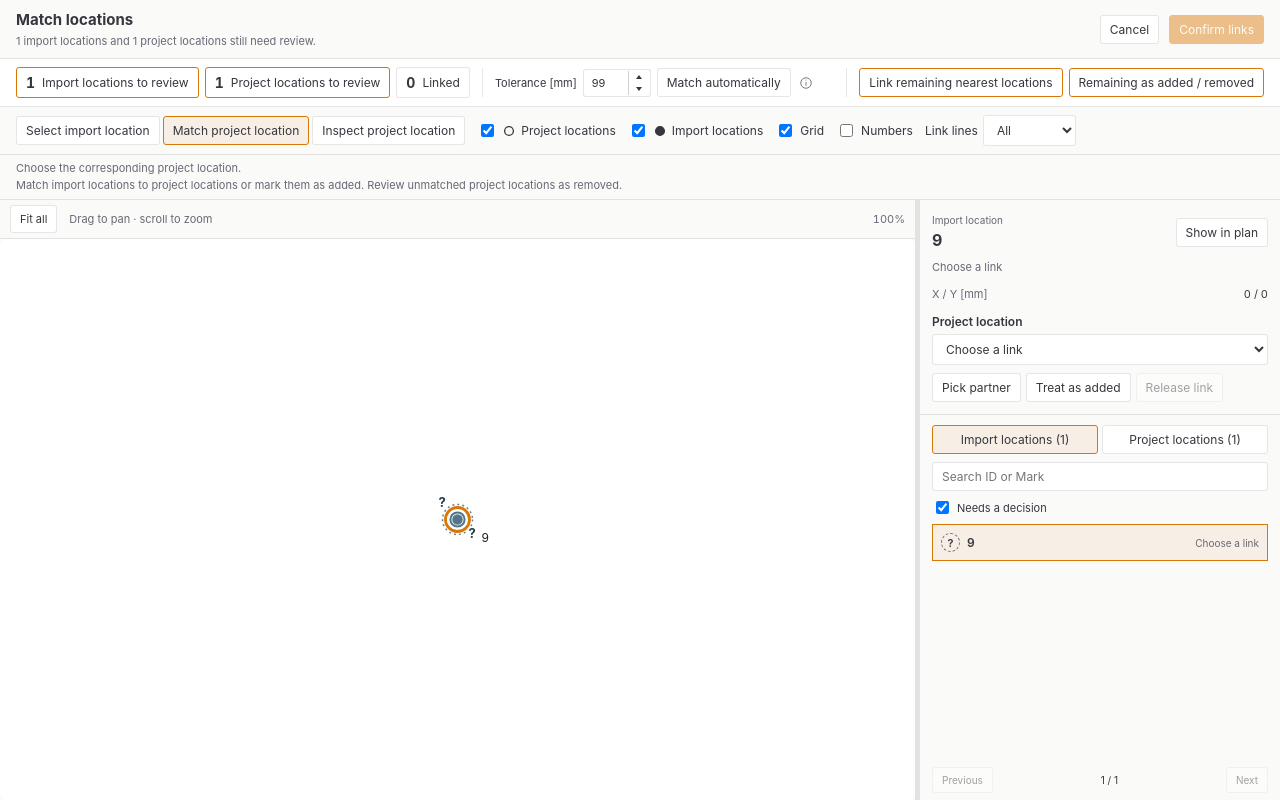
a failed link keeps the current location available for correction
What coordinates should you click on to do the following:
click the button named "Match to project location 1"
I would click on:
 (458, 520)
Its box is [444, 506, 470, 532].
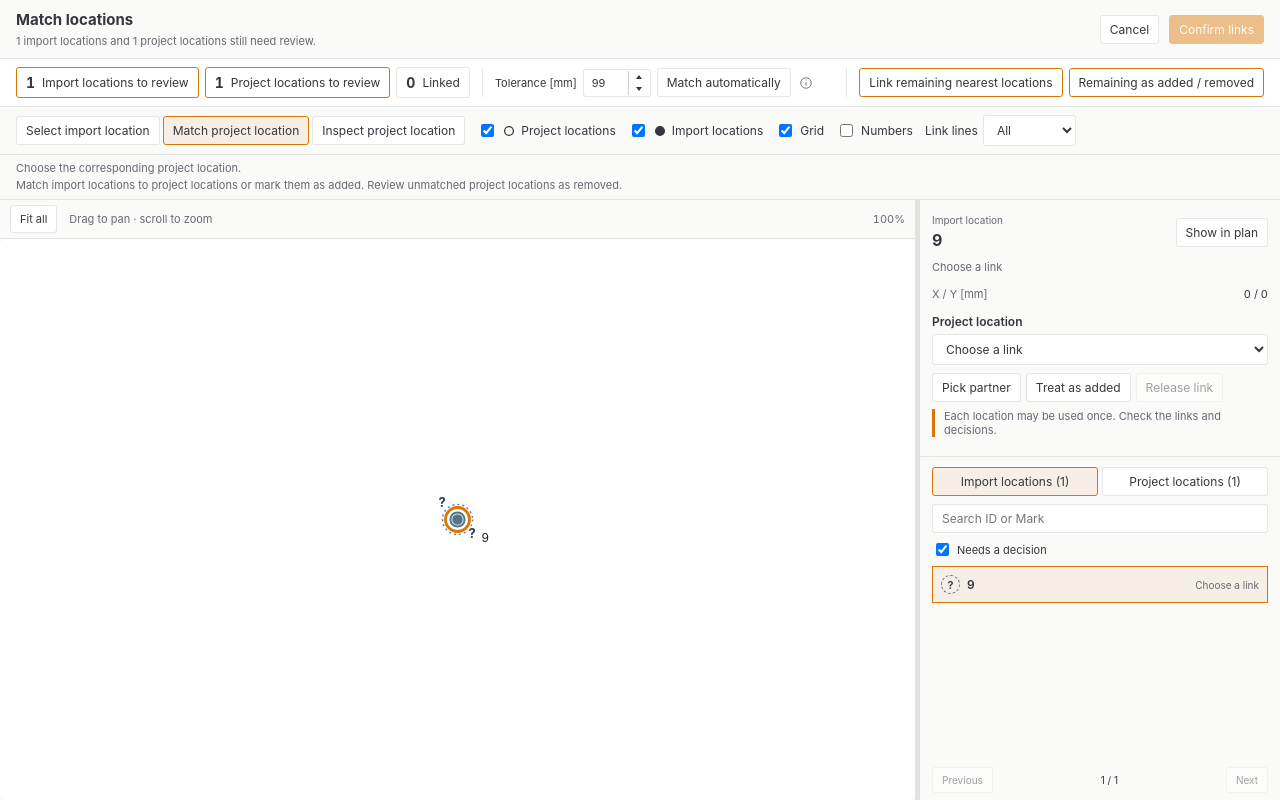
expect the message "Each location may be used once. Check the links and decisions." is shown: met, box [932, 409, 1268, 437]
